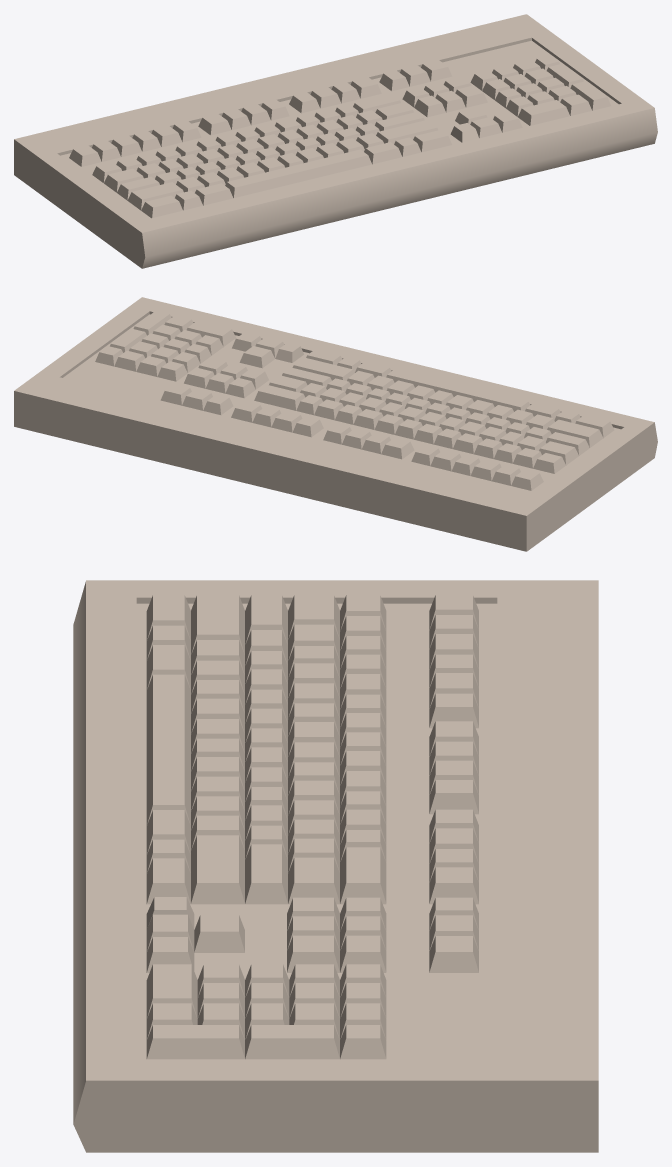
The model's file is computer_keyboard_b5019117.glb.
The picture shows the model from 3 angles, top to bottom: view 1: azimuth 30°, elevation 25°; view 2: azimuth 150°, elevation 25°; view 3: azimuth 270°, elevation 25°; orthographic projection. The views are drawn at different scales.
Visible parts, largest first — view 1: Object_2; view 2: Object_2; view 3: Object_2.
Part boxes in pixels (bbox=[...]): Object_2: bbox=[14, 14, 657, 268]; Object_2: bbox=[14, 297, 657, 551]; Object_2: bbox=[73, 580, 598, 1152].
Bounding box in the file's own units: 5.78 × 0.4539 × 2.56.
1 material, 1 textured.
